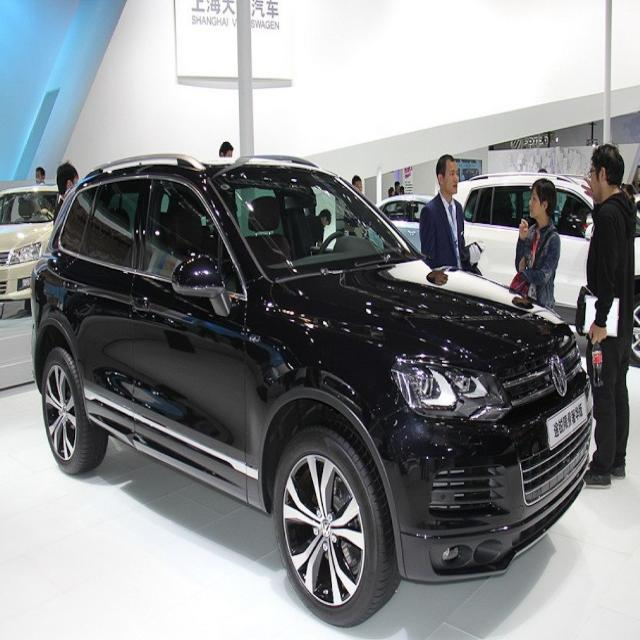door: (70, 175, 154, 431)
front_bumper: (361, 375, 593, 584)
front_glass: (209, 167, 416, 281)
front_right_side_door: (130, 170, 251, 510)
front_right_side_light: (389, 351, 512, 425)
front_right_side_mirror: (170, 252, 228, 312)
wheel: (272, 421, 383, 628), (42, 346, 107, 476)
